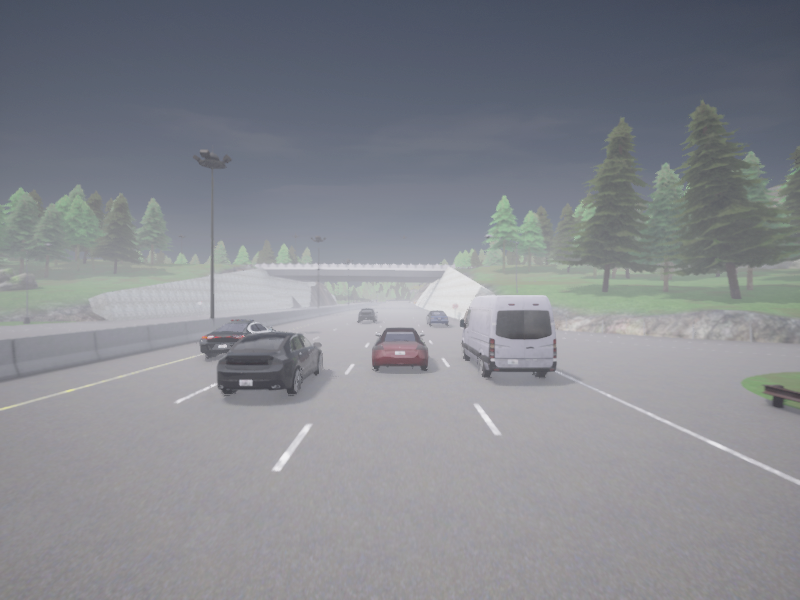vehicle: (460, 295, 556, 377), (217, 331, 322, 394), (199, 319, 275, 357), (372, 327, 427, 369), (426, 310, 448, 325), (358, 308, 377, 322)
